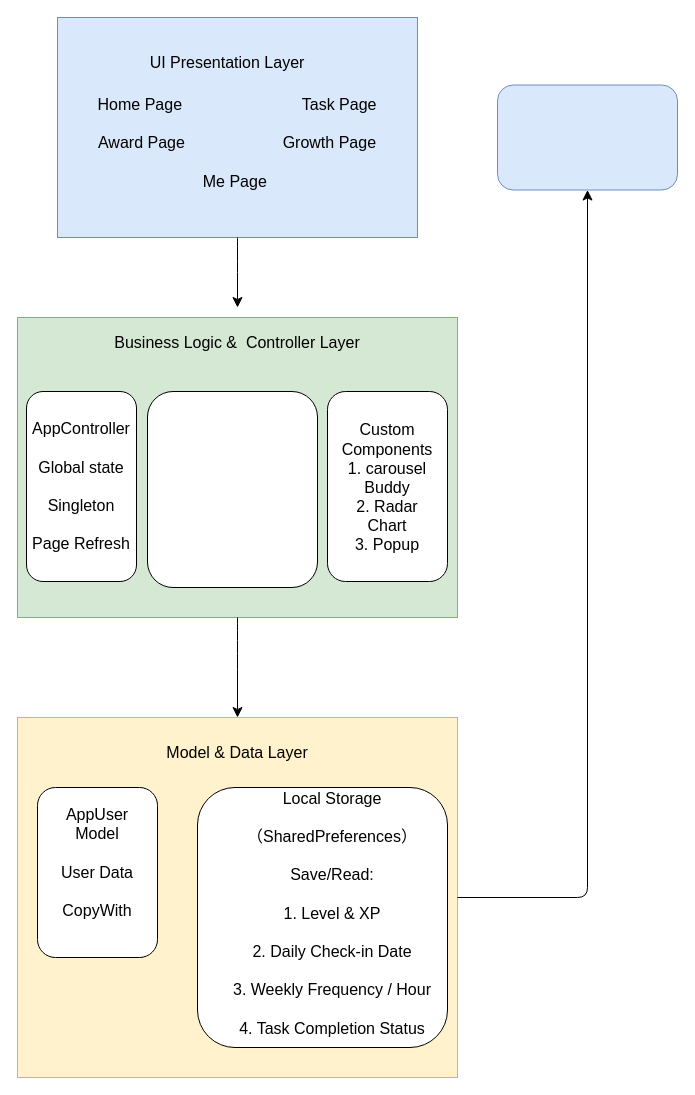
Some shapes in this 695 by 1095 pixel diagram are drawn without their labels. The centre of each missing label's shape, as x and y in pixels:
Callback refresh, update the UI interface: point 587,137
Core Logic 1. Level System 2. Daily Check 3. Task Judge 4. EXP Calculate: point 232,489
